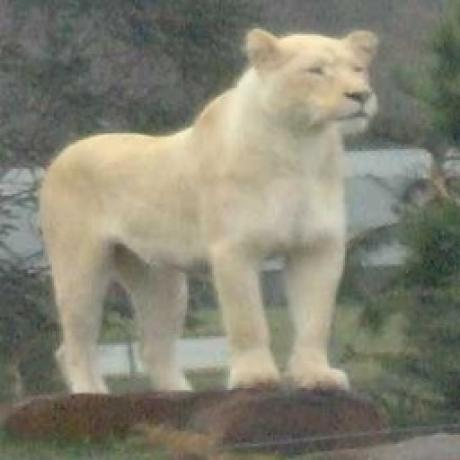Lion: (31, 17, 393, 403)
